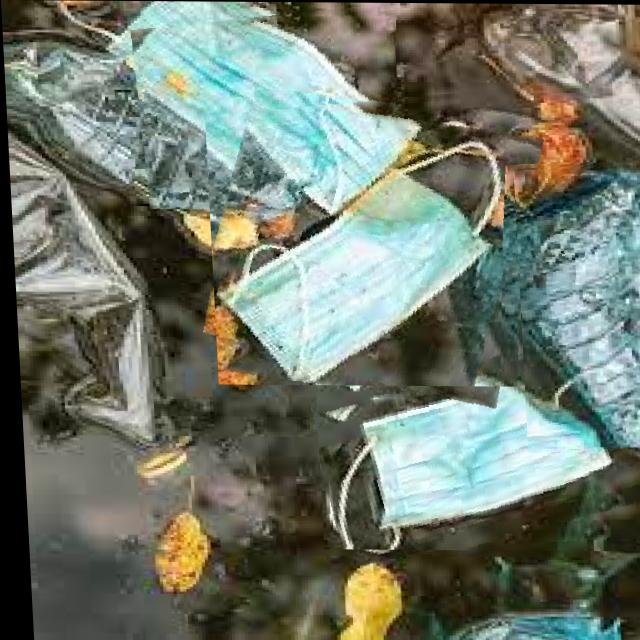litter: (201, 84, 539, 386), (309, 348, 640, 551), (128, 1, 400, 210), (510, 161, 640, 447)
